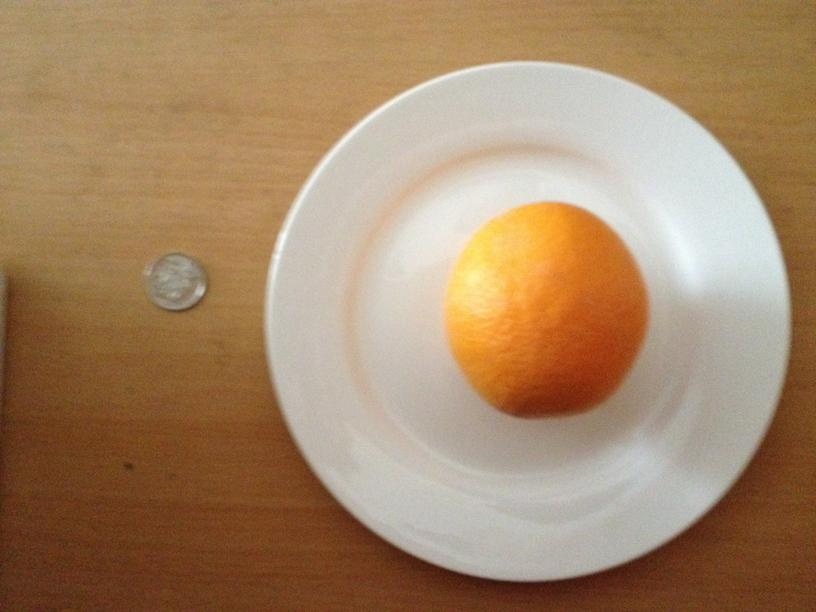coin: (149, 253, 207, 311)
orange: (443, 199, 648, 419)
